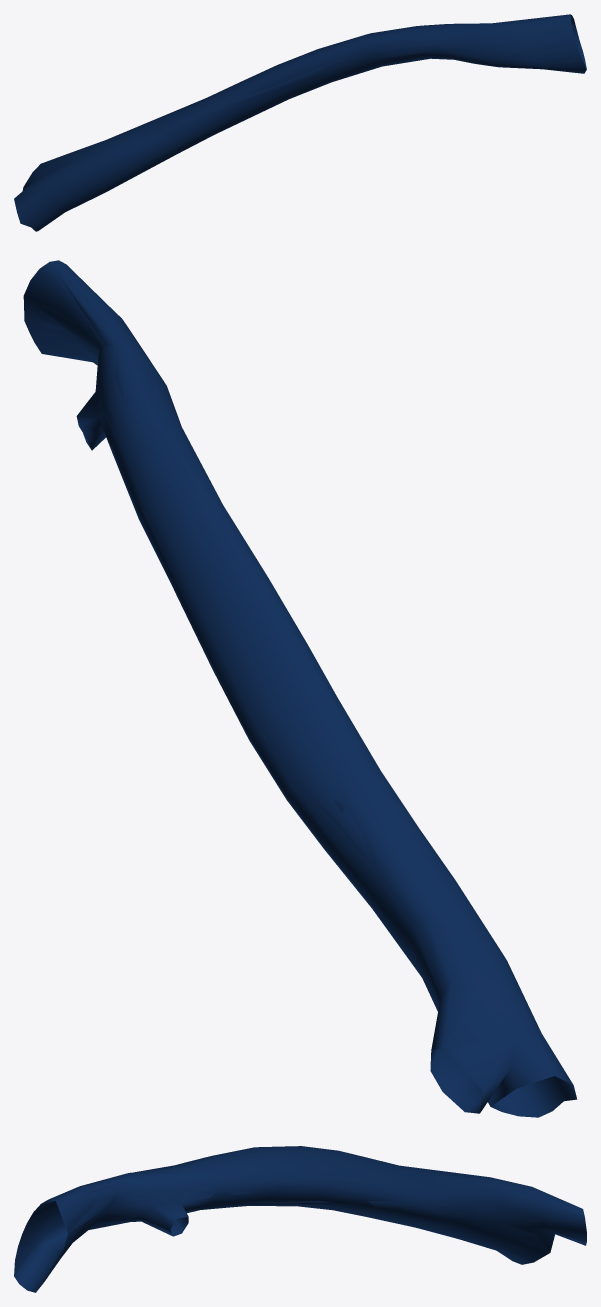
File: R vena iliaca externa.fbx
3 views of the same model, one above another, from view 1: azimuth 30°, elevation 25°; view 2: azimuth 150°, elevation 25°; view 3: azimuth 270°, elevation 25° (orthographic). The views are drawn at different scales.
Visible parts, largest first — view 1: R vena iliaca externa, R vena iliaca externa low; view 2: R vena iliaca externa, R vena iliaca externa low; view 3: R vena iliaca externa, R vena iliaca externa low.
Boxes of the visible parts, box(x1,y1,x2,y2) form: R vena iliaca externa: box(14, 14, 586, 231); R vena iliaca externa low: box(15, 14, 586, 230); R vena iliaca externa: box(23, 260, 577, 1117); R vena iliaca externa low: box(23, 262, 575, 1116); R vena iliaca externa: box(14, 1146, 586, 1290); R vena iliaca externa low: box(14, 1146, 585, 1292).
Size of the model in its own units: 7.39 by 3.84 by 5.52.
